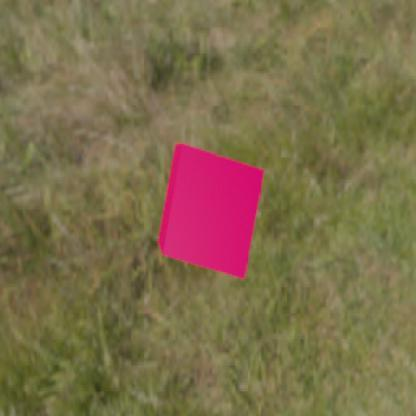cube: (157, 142, 264, 279)
